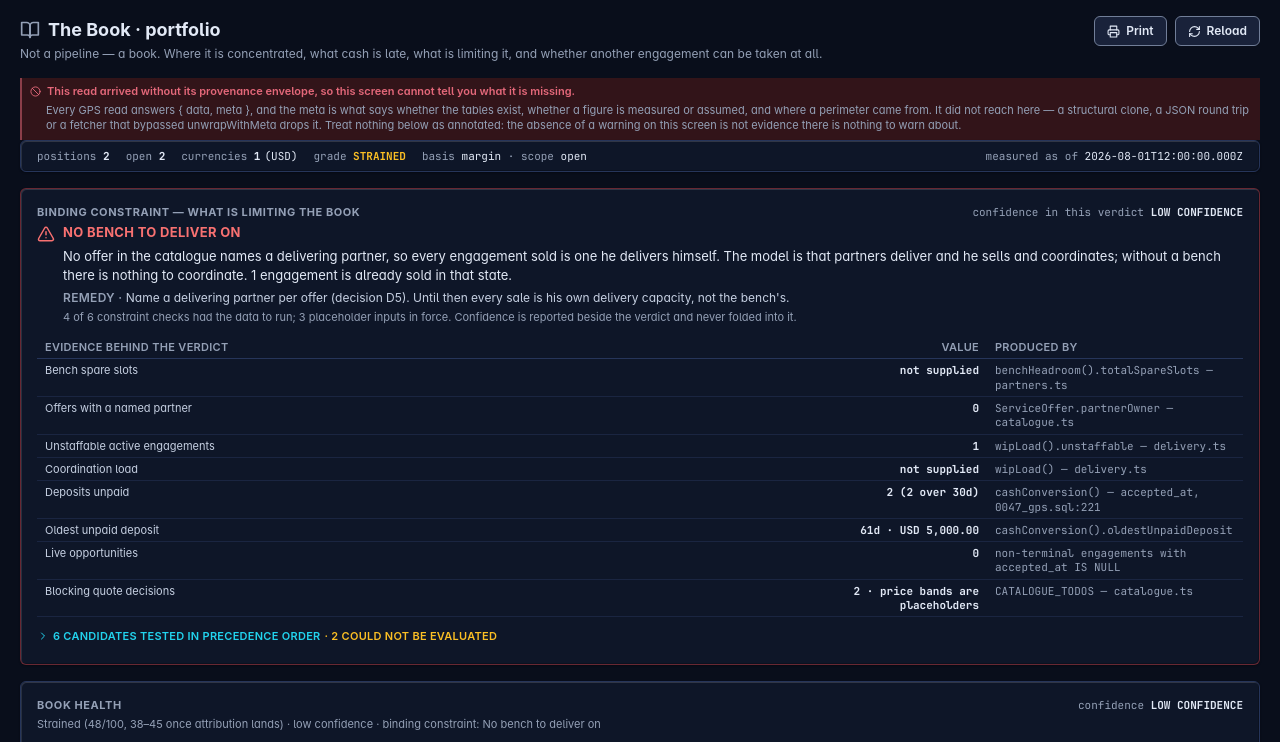
GpsBook · the binding constraint is stated in words › prints the verdict sentence, its remedy and its confidence, and lists every candidate tested
Check: the text "Name a delivering partner per offer (decision D5). Until then every sale is his own delivery capacity, not the bench's." is shown, box x1=126 y1=290 x2=790 y2=305
Check: the text "confidence in this verdict low confidence" is shown, box x1=972 y1=205 x2=1243 y2=219
Step 1. Click the button with test id "verdict-audit-toggle" → point(267, 636), box x1=37 y1=629 x2=497 y2=644
(page scrolled)
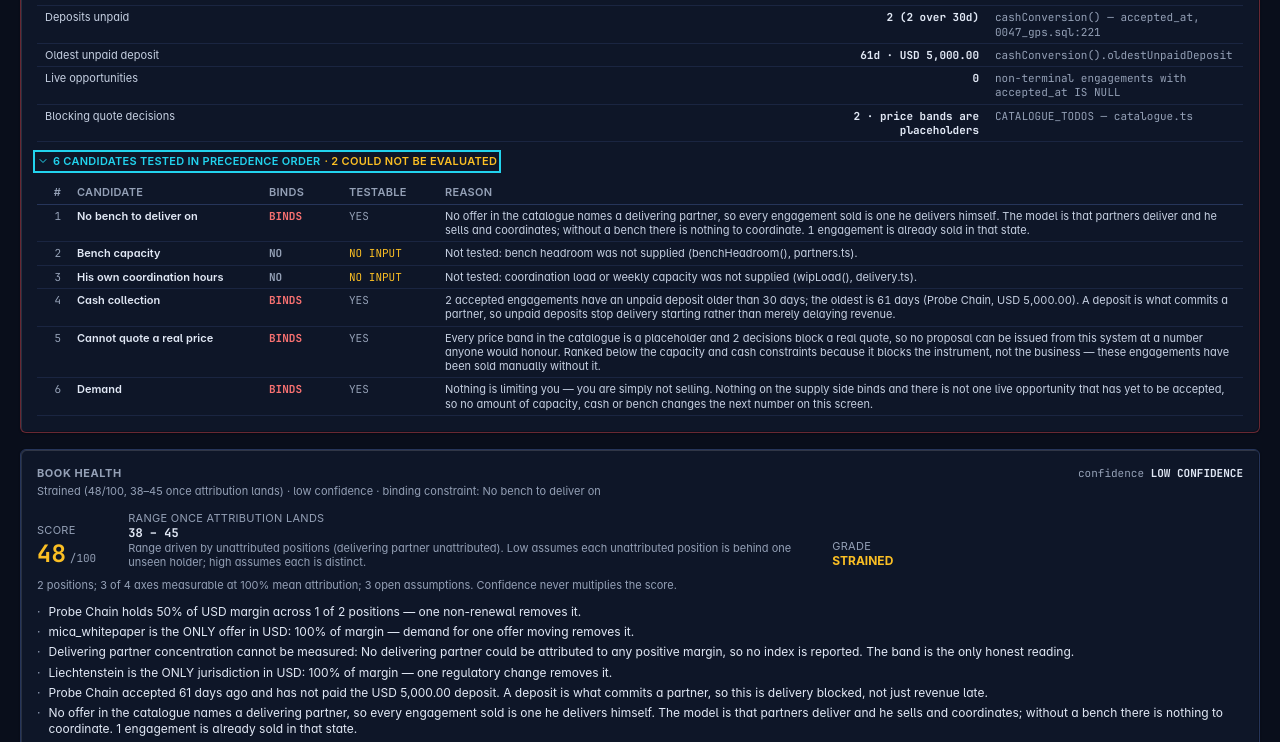
Check: the text "Not tested: bench headroom was not supplied (benchHeadroom(), partners.ts)." is shown, box x1=437 y1=242 x2=1243 y2=265
Check: the text "Not tested: coordination load or weekly capacity was not supplied (wipLoad(), delivery.ts)." is shown, box x1=445 y1=270 x2=917 y2=284
Check: the text "no input" is shown 2 times, box x1=341 y1=242 x2=437 y2=265; x1=341 y1=265 x2=437 y2=288
